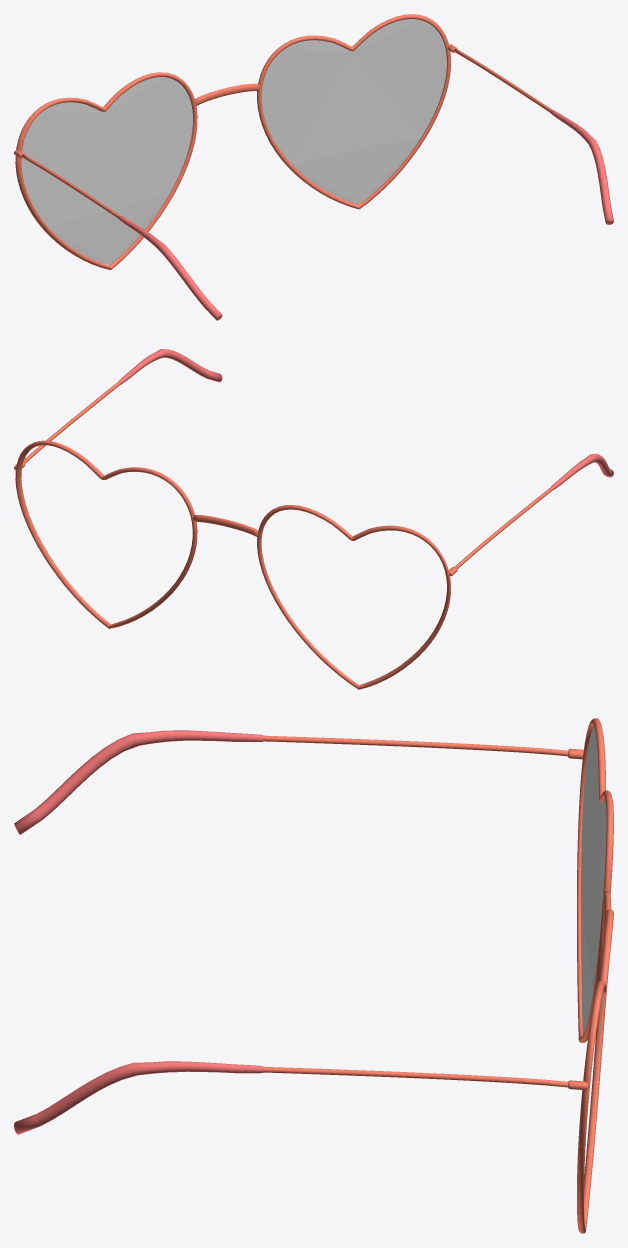
Rendered from glasses_heart.glb.
3 renders of one model, top to bottom at view 1: azimuth 30°, elevation 25°; view 2: azimuth 150°, elevation 25°; view 3: azimuth 270°, elevation 25°, orthographic. The views are drawn at different scales.
Parts seen in each view (by area): view 1: Circle.002_3, Cylinder_6, BezierCurve_2, Cylinder.001_5; view 2: Cylinder_6, BezierCurve_2, Cylinder.001_5; view 3: Cylinder_6, BezierCurve_2, Circle.002_3, Cylinder.001_5.
Part boxes in pixels (x1,y1,x2,y2): Circle.002_3: [21, 19, 446, 265]; Cylinder_6: [15, 14, 450, 269]; BezierCurve_2: [118, 110, 613, 320]; Cylinder.001_5: [21, 48, 552, 218]; Cylinder_6: [15, 440, 450, 689]; BezierCurve_2: [119, 349, 613, 489]; Cylinder.001_5: [23, 381, 553, 568]; Cylinder_6: [577, 718, 613, 1233]; BezierCurve_2: [14, 730, 263, 1134]; Circle.002_3: [581, 726, 606, 1080]; Cylinder.001_5: [263, 735, 568, 1087].
Size of the model in its own units: 0.1418 by 0.0551 by 0.107.
